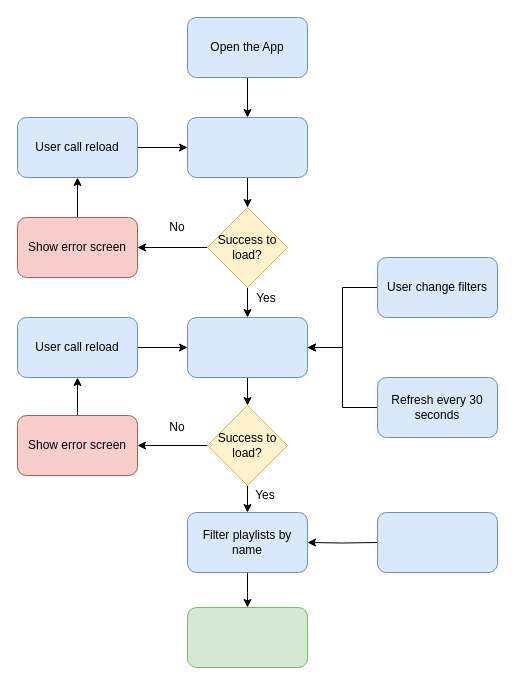
This 515x685 diagram has some shape labels left out. The shapes that lost their labels are listed below. From the top down, each one's box as (x1, y1, x2, y2) in pixels, then its label:
(186, 116, 308, 178): Fetch the access token
(186, 316, 308, 378): Fetch the playlists
(376, 512, 498, 572): User change name query
(186, 606, 308, 668): Show playlists
